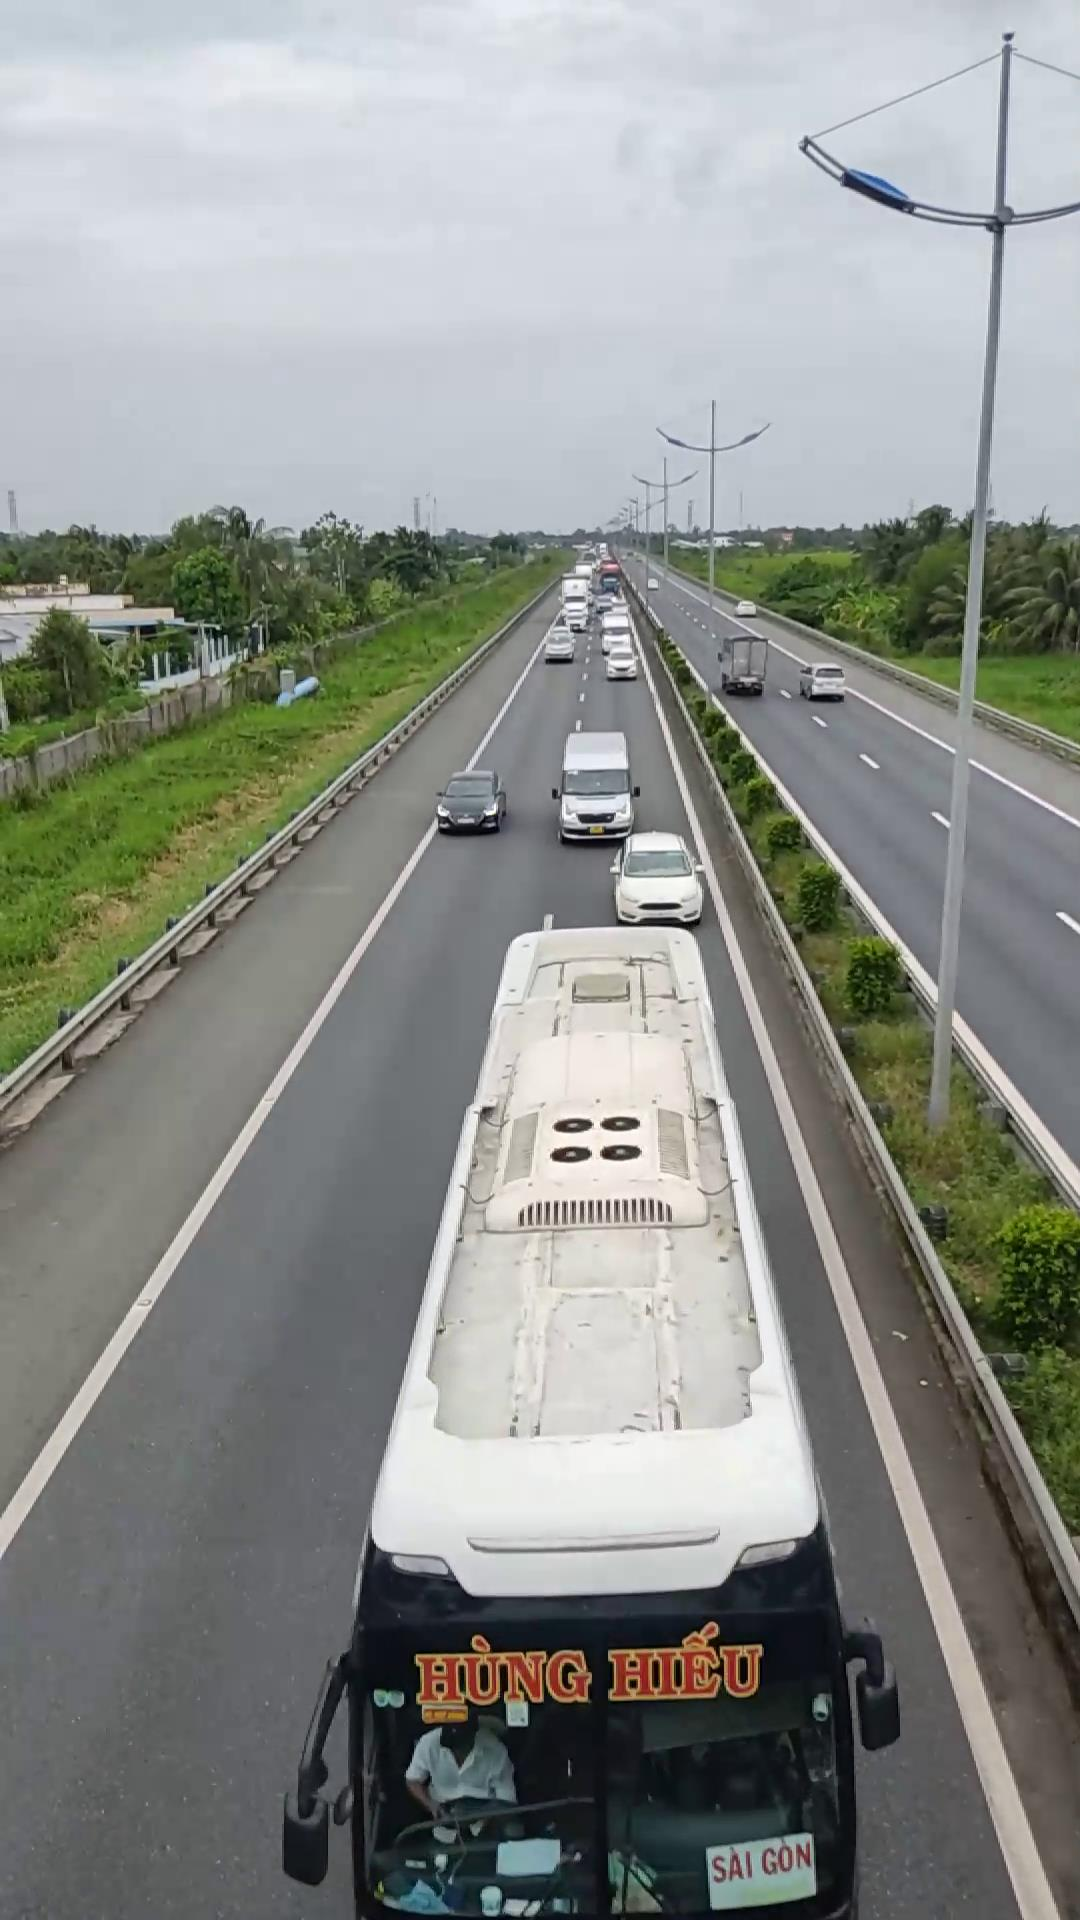bus: (328, 916, 884, 1909)
car: (552, 727, 638, 843), (609, 829, 705, 923), (435, 768, 508, 833)
